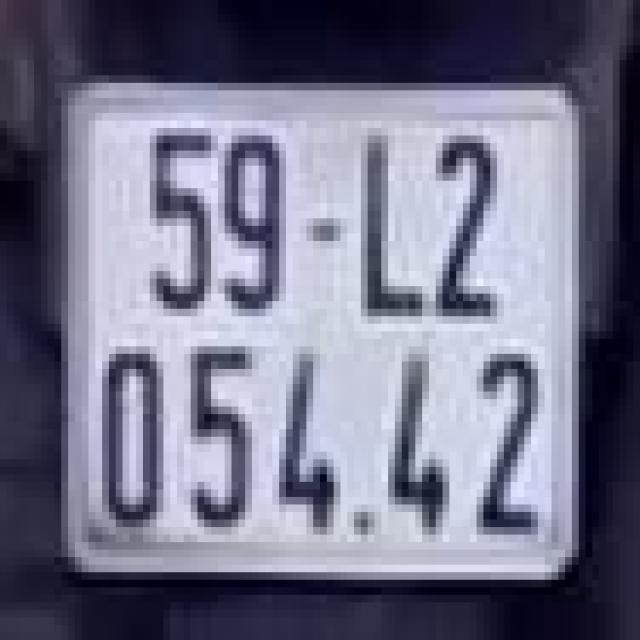0: (82, 338, 170, 534)
2: (456, 342, 552, 554), (419, 128, 507, 324)
4: (266, 350, 347, 531), (374, 354, 450, 542)
9: (129, 116, 218, 312), (180, 331, 256, 535), (218, 124, 293, 320)
L: (341, 128, 422, 331)
